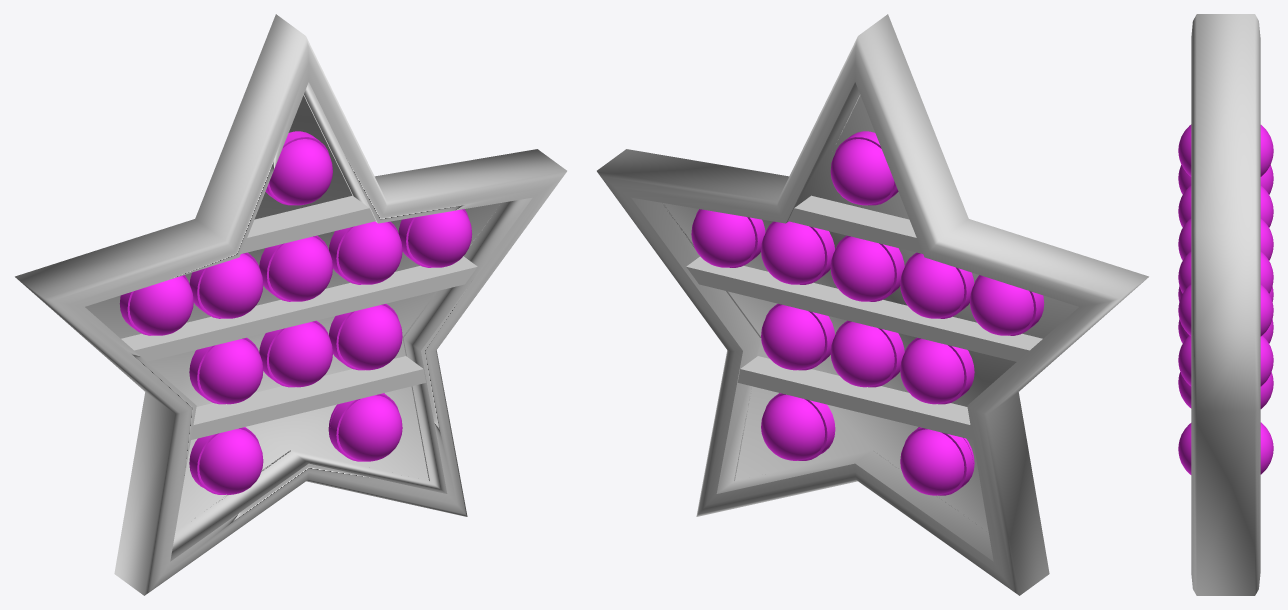
3 views of the same model, side by side, from view 1: azimuth 30°, elevation 25°; view 2: azimuth 150°, elevation 25°; view 3: azimuth 270°, elevation 25° (orthographic). The views are drawn at different scales.
Visible parts, largest first — view 1: Cylinder.002, Cube.033, Cube.034, Cube.032, Sphere.324, Sphere.323, Sphere.321, Sphere.319, Sphere.320, Sphere.314, Sphere.313, Sphere.316 (+3 smaller); view 2: Cylinder.002, Cube.033, Cube.034, Cube.032, Sphere.334, Sphere.333, Sphere.332, Sphere.331, Sphere.330, Sphere.325, Sphere.322, Sphere.326 (+3 smaller); view 3: Cylinder.002, Sphere.329, Sphere.333, Sphere.317, Sphere.313, Sphere.331, Sphere.324, Sphere.322, Sphere.321, Sphere.314, Sphere.316, Sphere.315 (+7 smaller).
Part boxes in pixels (x1=…): Cylinder.002: x1=15, y1=14, x2=566, y2=595; Cube.033: x1=121, y1=256, x2=477, y2=361; Cube.034: x1=191, y1=356, x2=425, y2=439; Cube.032: x1=241, y1=195, x2=375, y2=253; Sphere.324: x1=338, y1=395, x2=402, y2=461; Sphere.323: x1=199, y1=428, x2=263, y2=494; Sphere.321: x1=338, y1=305, x2=402, y2=370; Sphere.319: x1=269, y1=322, x2=332, y2=387; Sphere.320: x1=199, y1=339, x2=263, y2=404; Sphere.314: x1=269, y1=236, x2=332, y2=301; Sphere.313: x1=269, y1=139, x2=332, y2=205; Sphere.316: x1=338, y1=221, x2=402, y2=284; Cylinder.002: x1=597, y1=14, x2=1148, y2=595; Cube.033: x1=686, y1=256, x2=1042, y2=361; Cube.034: x1=738, y1=356, x2=972, y2=439; Cube.032: x1=788, y1=195, x2=922, y2=253; Sphere.334: x1=900, y1=429, x2=964, y2=495; Sphere.333: x1=761, y1=394, x2=824, y2=460; Sphere.332: x1=900, y1=338, x2=964, y2=404; Sphere.331: x1=761, y1=305, x2=824, y2=370; Sphere.330: x1=830, y1=322, x2=894, y2=387; Sphere.325: x1=830, y1=236, x2=894, y2=301; Sphere.322: x1=830, y1=139, x2=894, y2=205; Sphere.326: x1=761, y1=221, x2=824, y2=284; Cylinder.002: x1=1191, y1=14, x2=1260, y2=595; Sphere.329: x1=1260, y1=284, x2=1273, y2=336; Sphere.333: x1=1260, y1=422, x2=1273, y2=474; Sphere.317: x1=1178, y1=284, x2=1191, y2=336; Sphere.313: x1=1178, y1=124, x2=1191, y2=176; Sphere.331: x1=1260, y1=335, x2=1273, y2=386; Sphere.324: x1=1178, y1=423, x2=1191, y2=474; Sphere.322: x1=1260, y1=125, x2=1273, y2=176; Sphere.321: x1=1178, y1=335, x2=1191, y2=386; Sphere.314: x1=1178, y1=218, x2=1191, y2=260; Sphere.316: x1=1178, y1=251, x2=1191, y2=293; Sphere.315: x1=1178, y1=185, x2=1191, y2=227.
Bounding box in the file's own units: 22.54 × 21.44 × 3.67.
